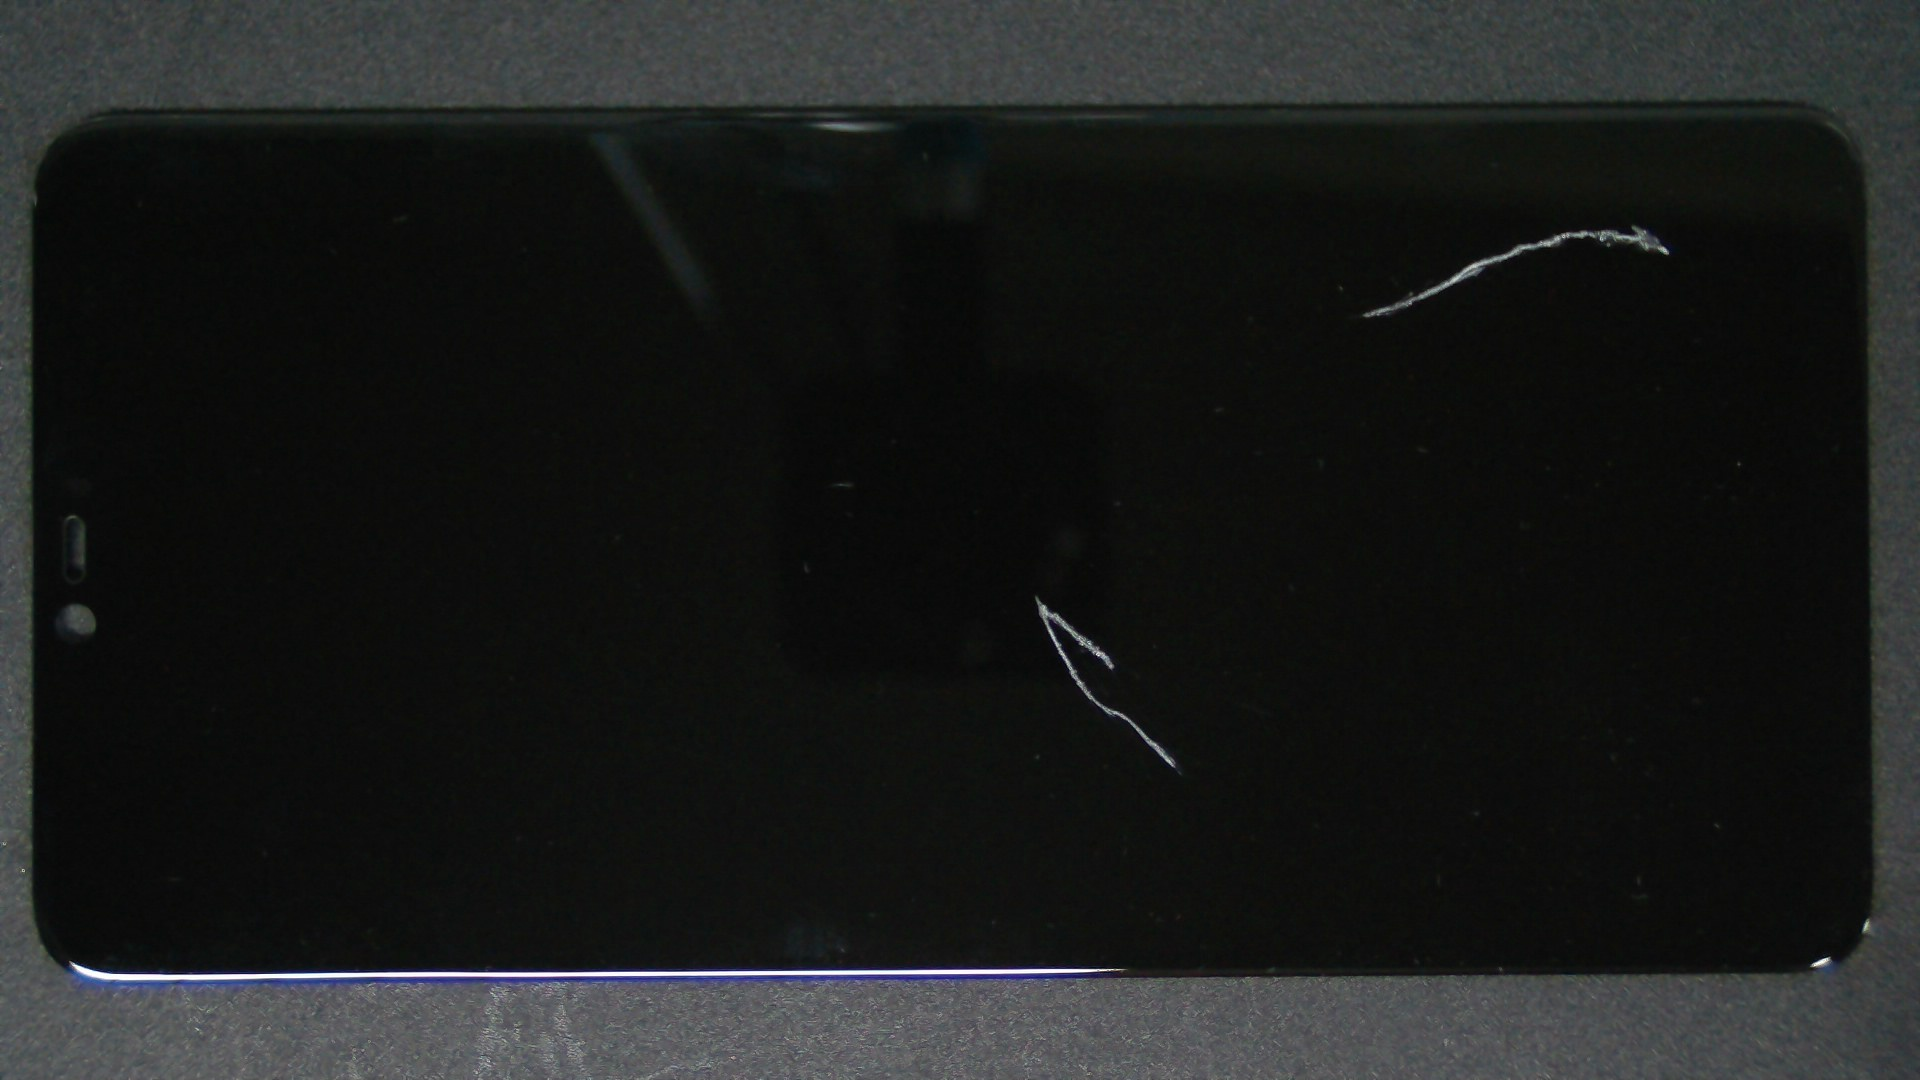oil: (520, 297, 1555, 893), (816, 112, 1920, 339)
